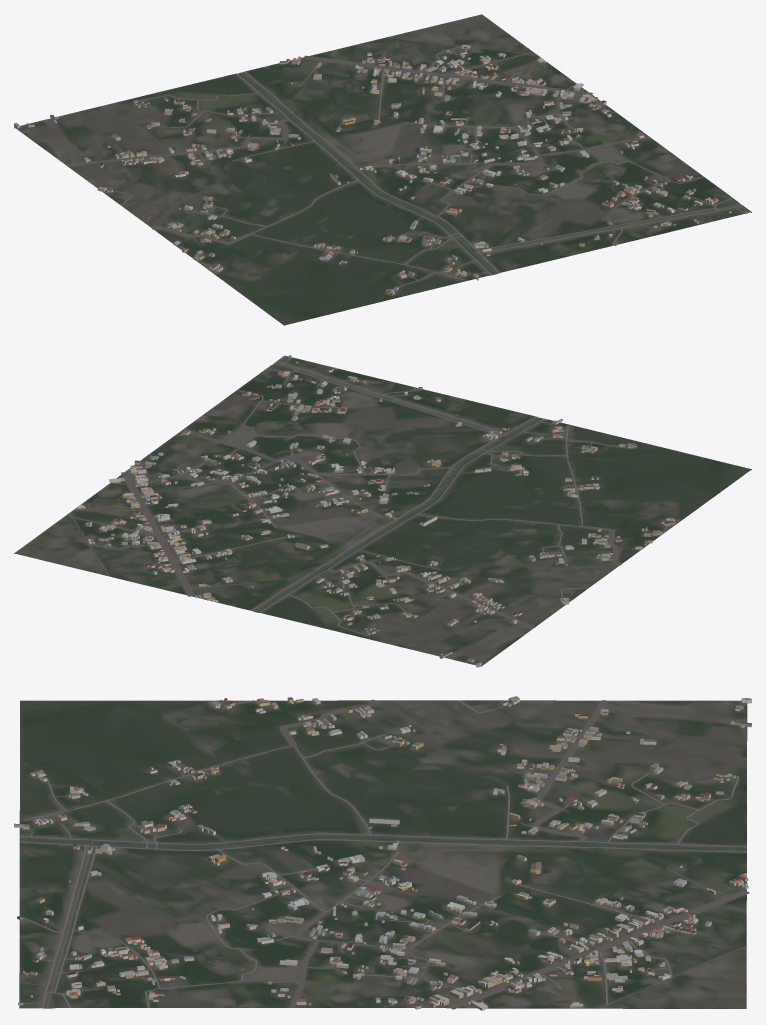
The picture shows the model from 3 angles, top to bottom: view 1: azimuth 30°, elevation 25°; view 2: azimuth 150°, elevation 25°; view 3: azimuth 270°, elevation 25°; orthographic projection. The views are drawn at different scales.
Visible parts, largest first — view 1: ground, buildings, roads, water; view 2: ground, buildings, roads, water; view 3: ground, buildings, roads, water.
Part boxes in pixels (left/top/right/bottom): ground: left=14, top=14, right=751, bottom=325; buildings: left=14, top=44, right=747, bottom=295; roads: left=66, top=37, right=743, bottom=289; water: left=239, top=72, right=741, bottom=274; ground: left=14, top=355, right=751, bottom=666; buildings: left=76, top=355, right=675, bottom=667; roads: left=69, top=358, right=678, bottom=636; water: left=255, top=363, right=542, bottom=612; ground: left=19, top=700, right=747, bottom=1008; buildings: left=14, top=696, right=751, bottom=1010; roads: left=19, top=699, right=749, bottom=1009; water: left=19, top=836, right=746, bottom=1008.
Size of the model in its own units: 1414 by 17.01 by 1421.
